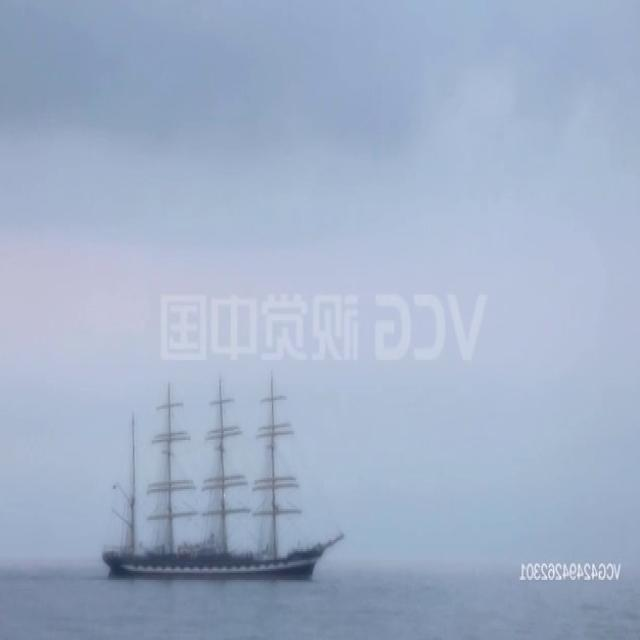sailboat: (98, 369, 346, 581)
